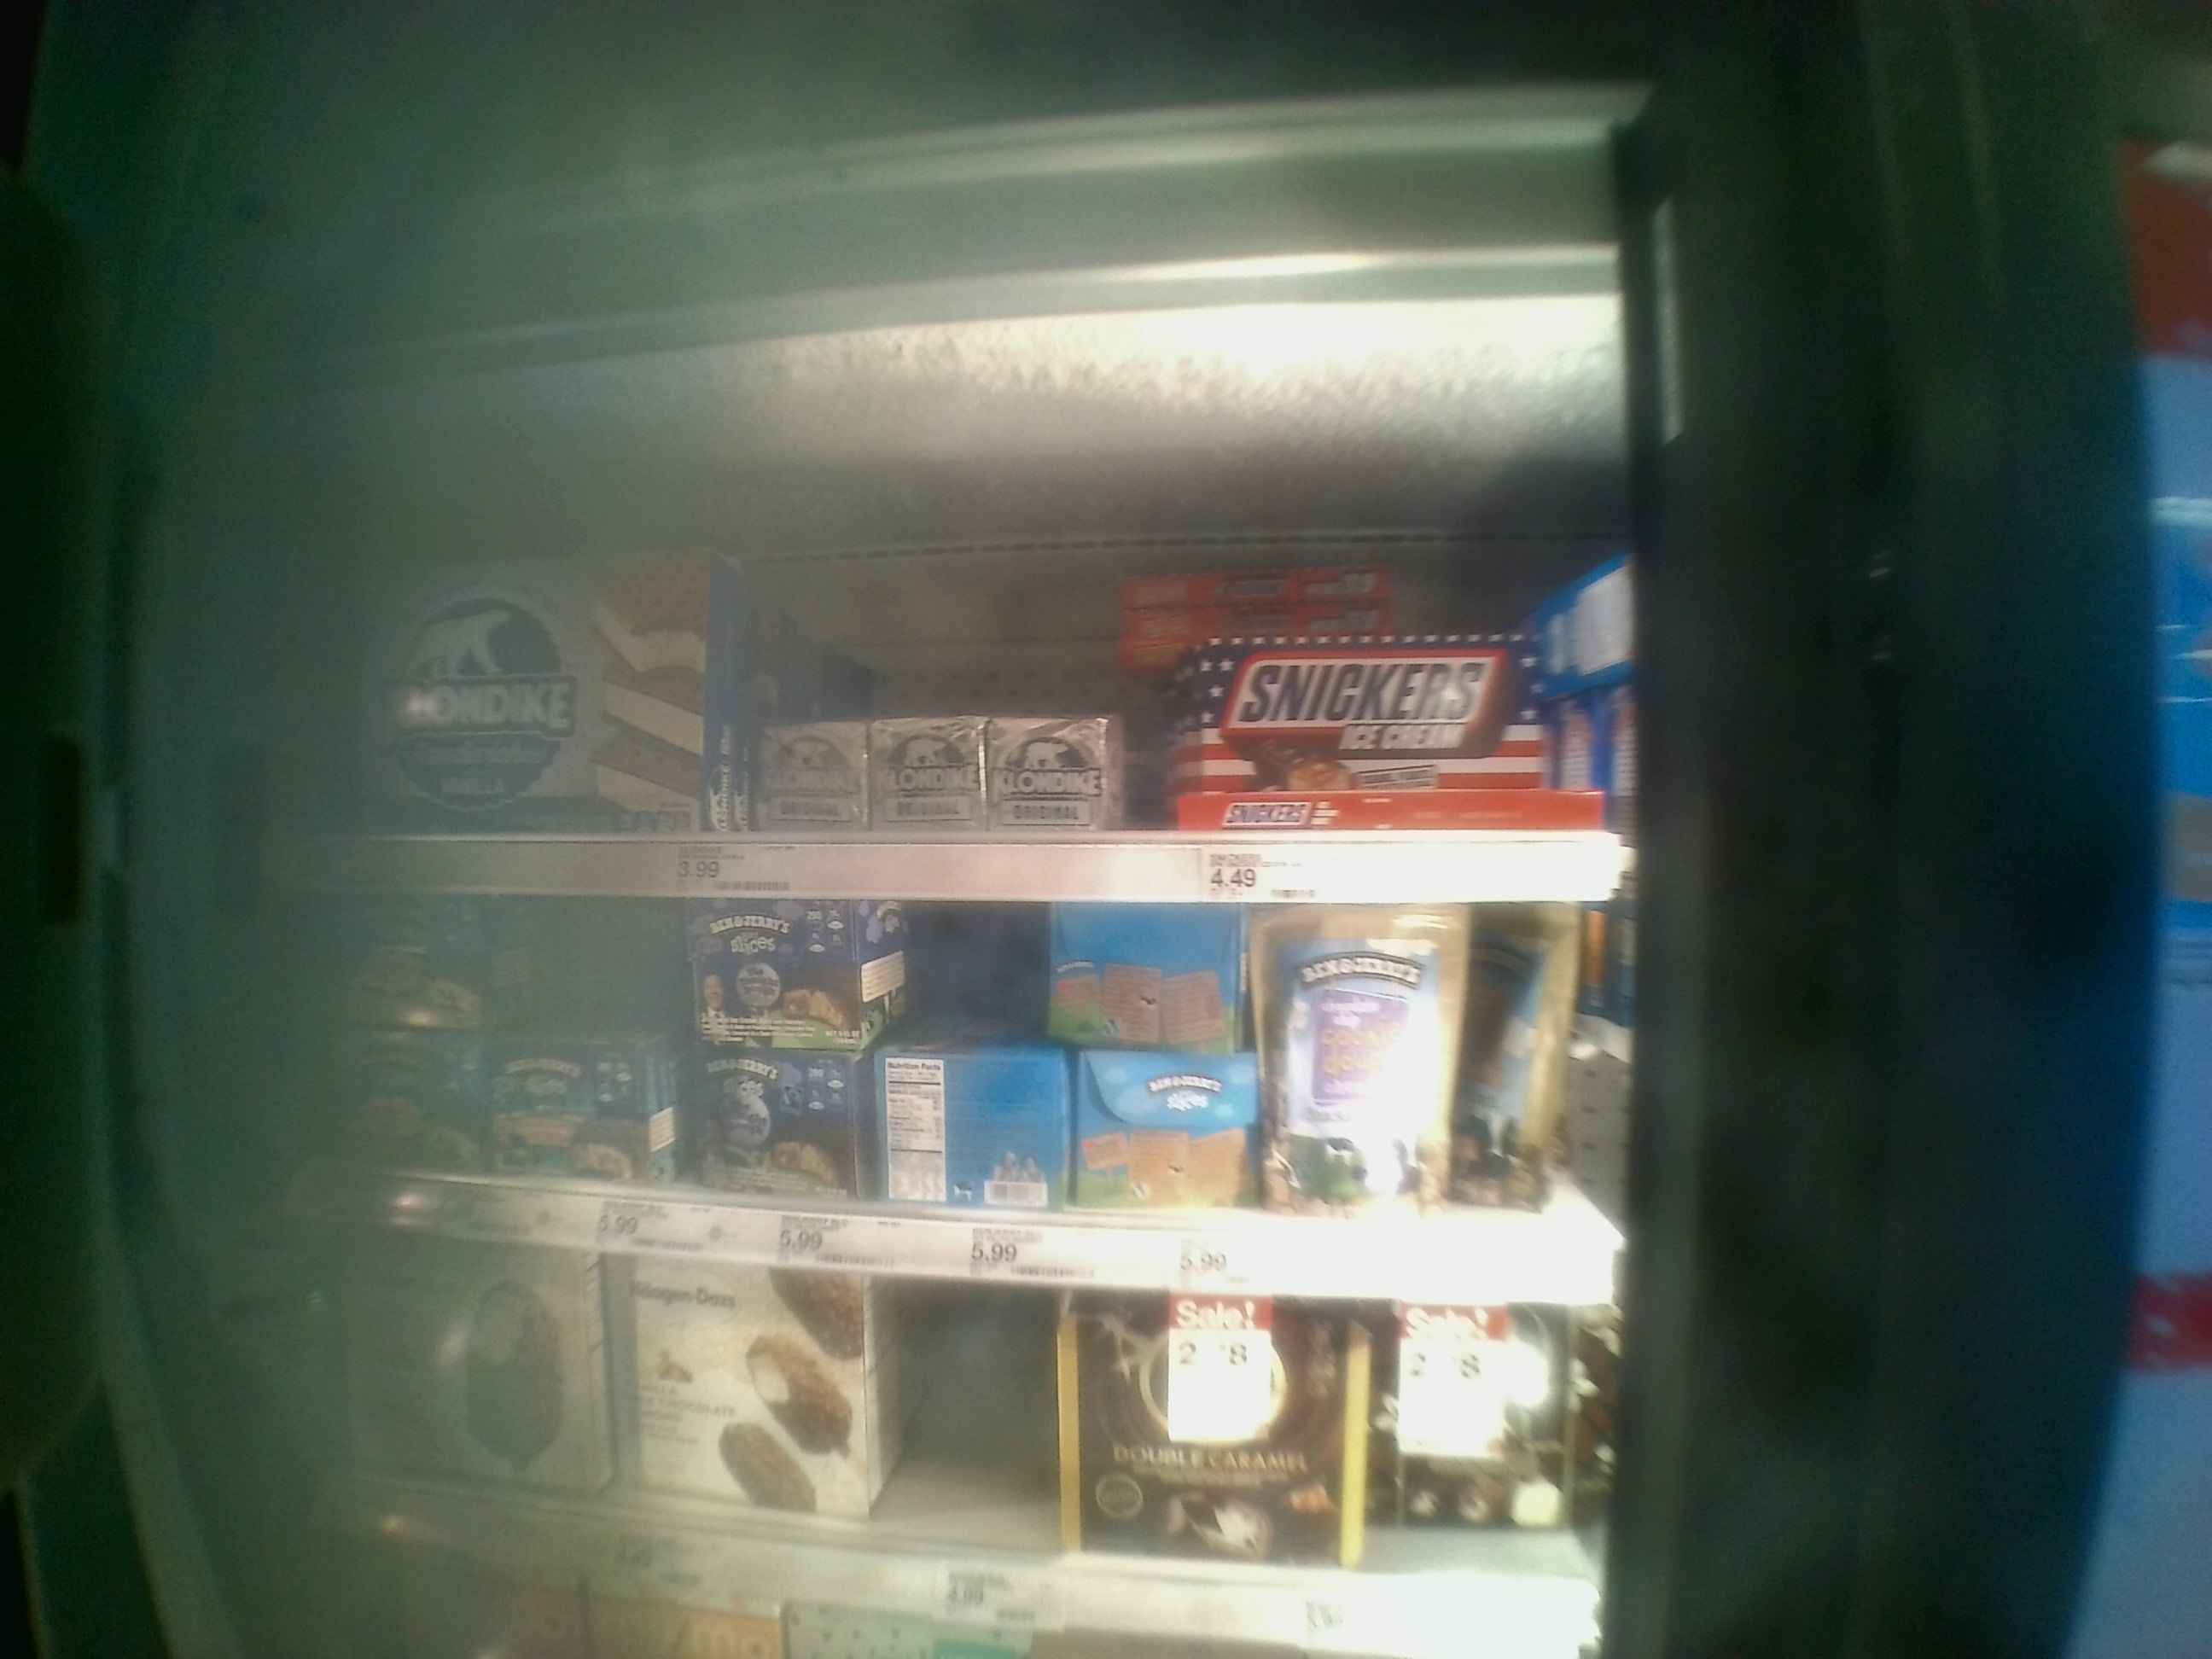ice-cream-shelf: (301, 897, 1623, 1310), (307, 507, 1622, 899)
